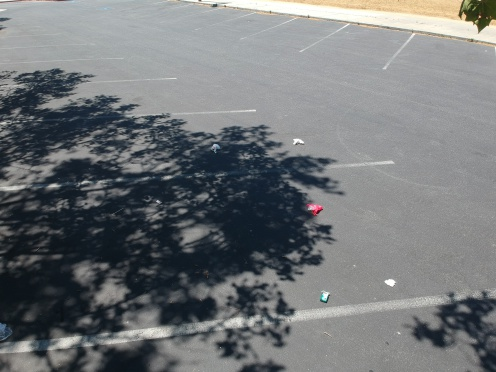plastic bag: (301, 200, 325, 217), (208, 140, 224, 156)
